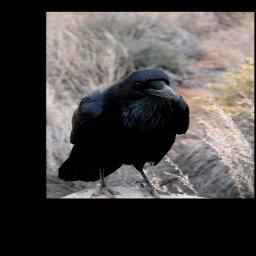Crow: (56, 67, 192, 198)
